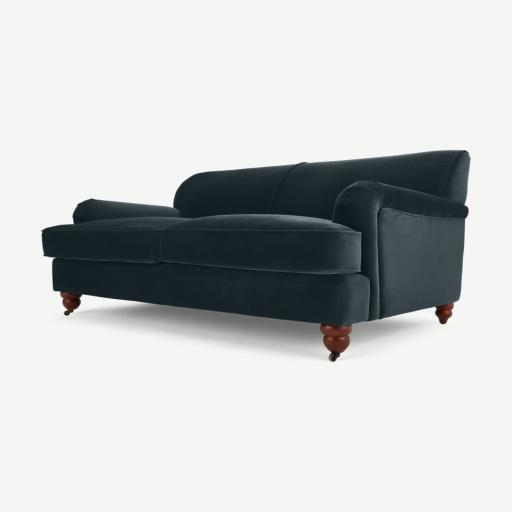back_cushion: (175, 150, 470, 220)
base: (53, 258, 369, 326)
left_arm: (337, 181, 464, 319)
legs: (320, 324, 352, 362), (61, 293, 81, 315), (436, 303, 453, 324)
one-seater: (0, 0, 511, 512)
seat_cushion: (43, 214, 360, 274)
